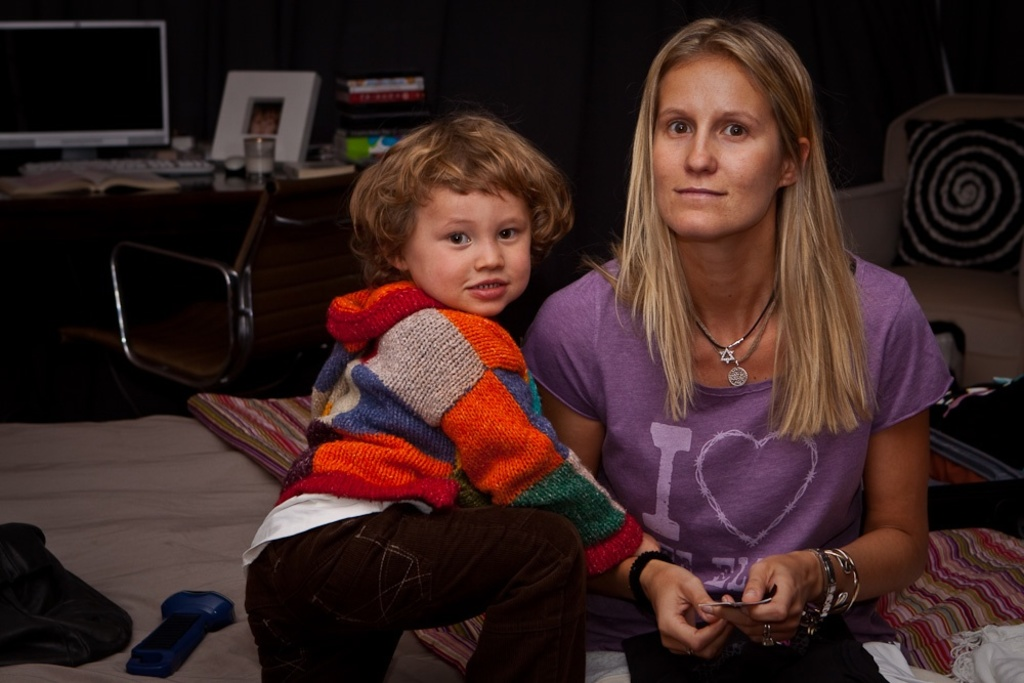Human_hand: (700, 554, 819, 650), (646, 560, 741, 659), (633, 533, 660, 558)
